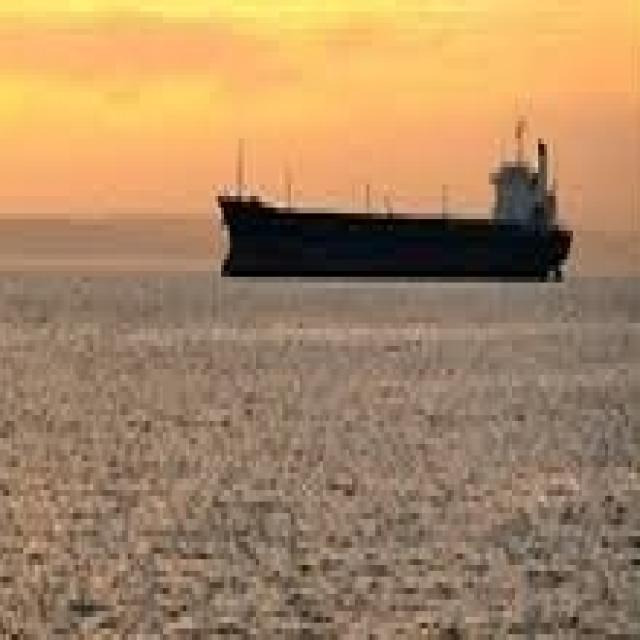cargoship: (211, 117, 567, 290)
